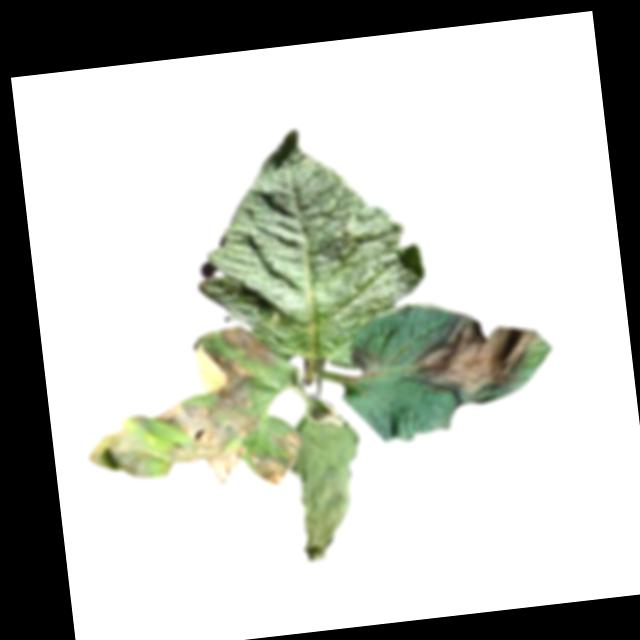Late_blight: (142, 321, 305, 499), (405, 305, 544, 400), (286, 415, 371, 565), (83, 427, 152, 484), (349, 345, 386, 378)
healthy: (182, 115, 435, 385)
